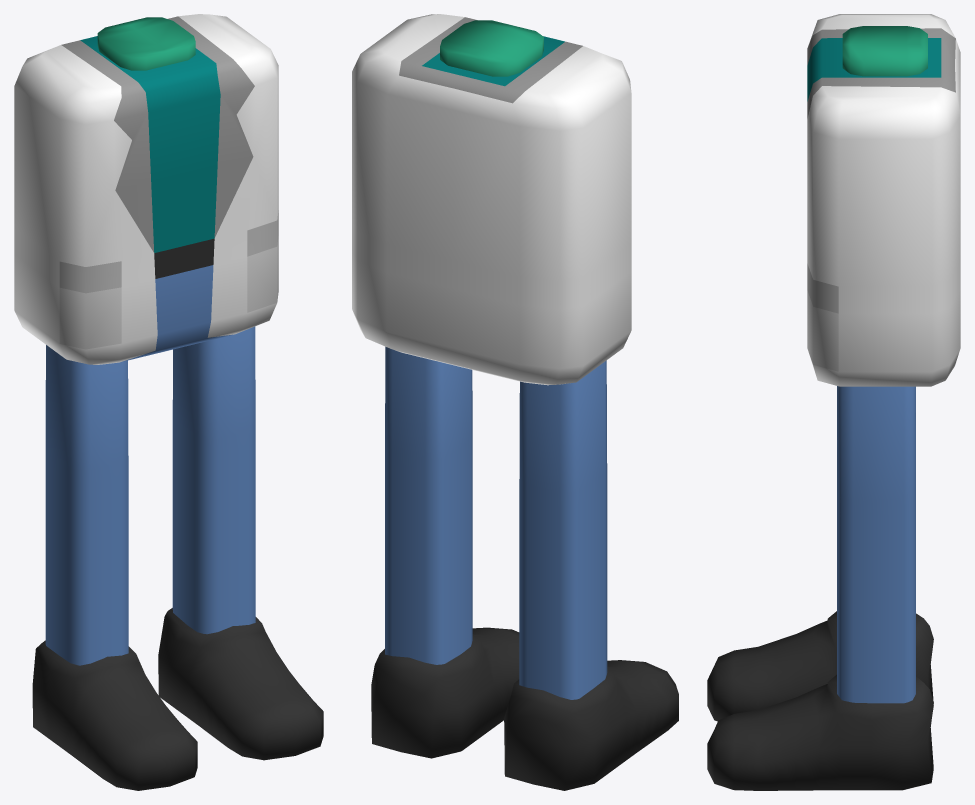
The model's file is NPC_Body1.gltf.
The picture shows the model from 3 angles, left to right: view 1: azimuth 30°, elevation 25°; view 2: azimuth 150°, elevation 25°; view 3: azimuth 270°, elevation 25°; orthographic projection. The views are drawn at different scales.
Visible parts, largest first — view 1: NPC_Body.001; view 2: NPC_Body.001; view 3: NPC_Body.001.
Part boxes in pixels (x1=…): NPC_Body.001: x1=14, y1=14, x2=323, y2=790; NPC_Body.001: x1=352, y1=14, x2=678, y2=790; NPC_Body.001: x1=707, y1=14, x2=960, y2=790.
Bounding box in the file's own units: 0.5348 × 1.57 × 0.518.
1 material, 1 textured.
